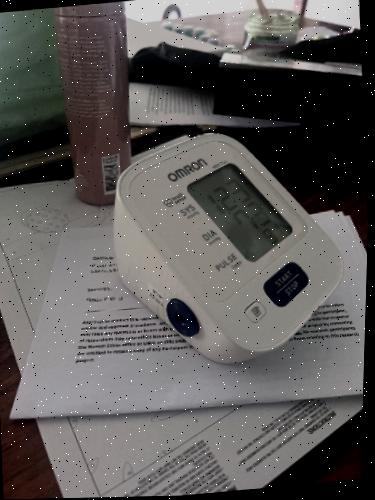bpm: (181, 151, 296, 269)
